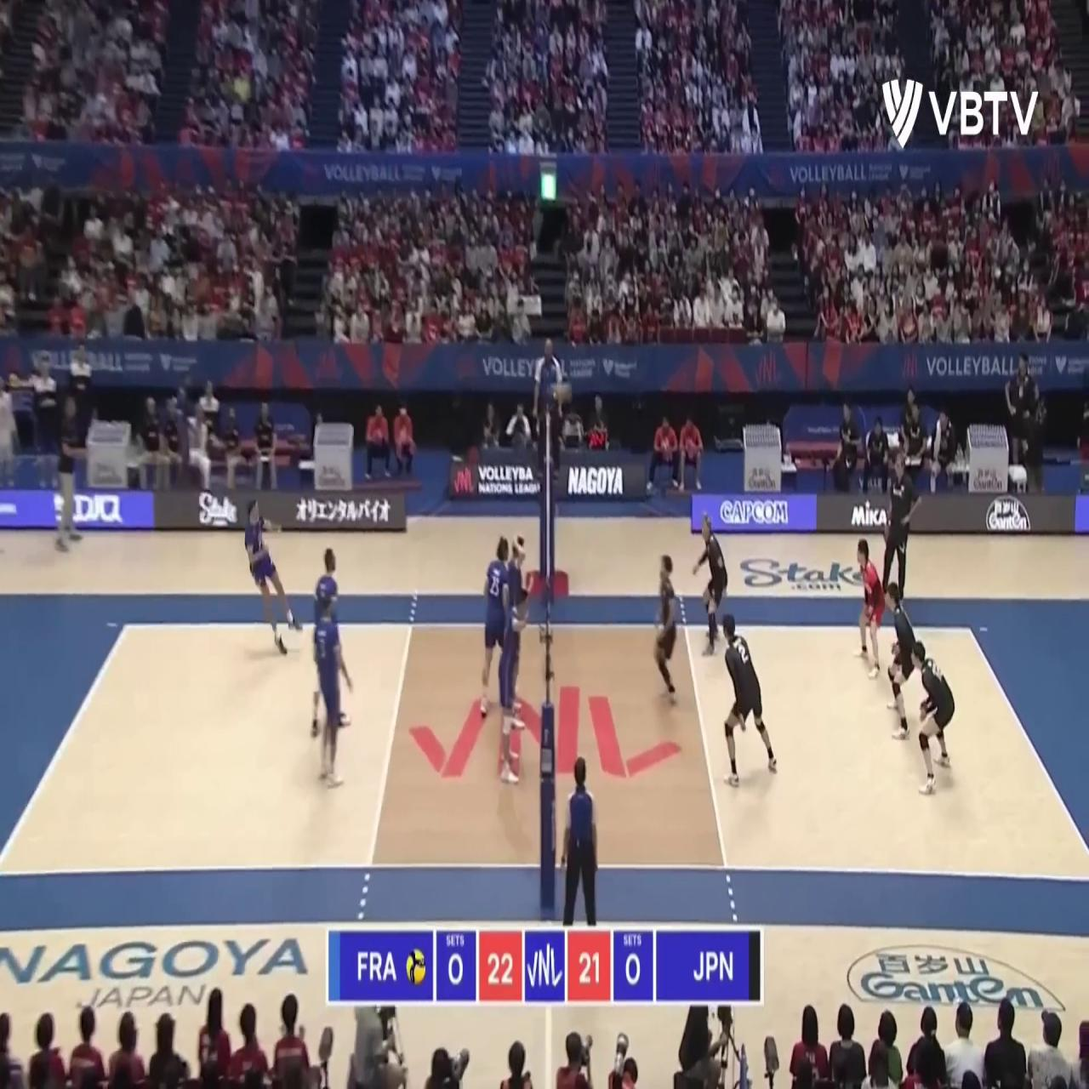ball: (557, 381, 572, 403)
